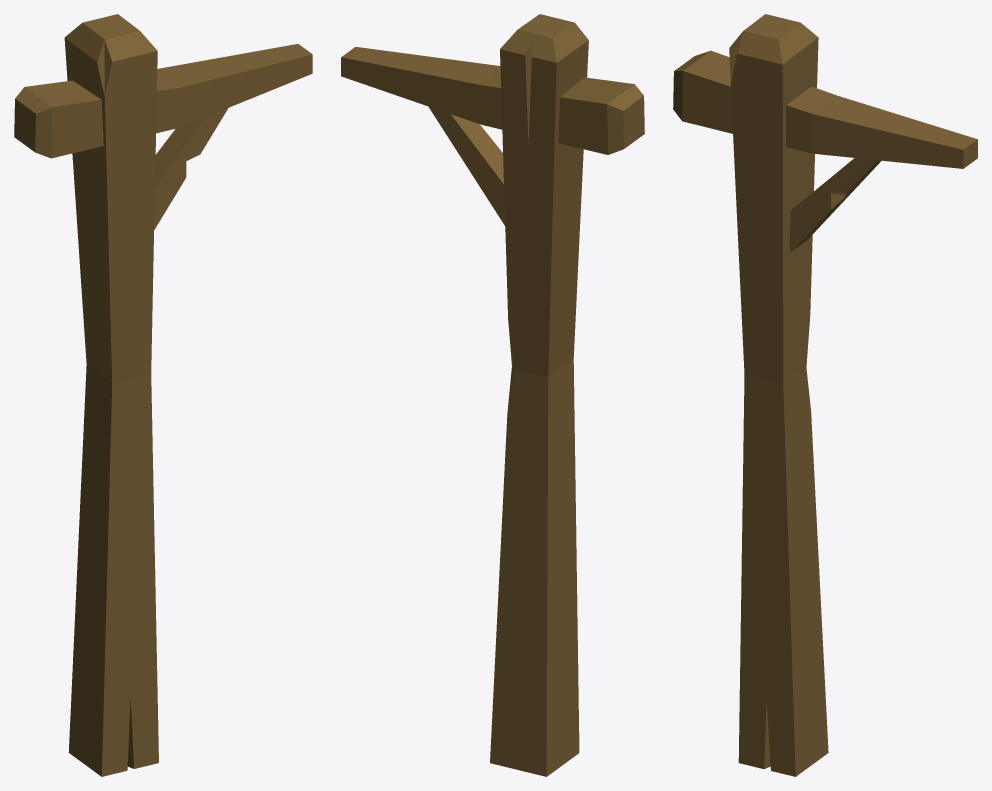
The model's file is lamp_post.glb.
3 renders of one model, left to right at view 1: azimuth 30°, elevation 25°; view 2: azimuth 150°, elevation 25°; view 3: azimuth 330°, elevation 25°, orthographic.
Visible parts, largest first — view 1: Cube, Cube.001, Cube.002; view 2: Cube, Cube.001, Cube.002; view 3: Cube, Cube.001, Cube.002.
Boxes of the visible parts, bbox=[...] form: Cube: bbox=[64, 14, 158, 776]; Cube.001: bbox=[14, 44, 312, 158]; Cube.002: bbox=[154, 108, 228, 230]; Cube: bbox=[490, 14, 588, 776]; Cube.001: bbox=[341, 46, 644, 154]; Cube.002: bbox=[429, 107, 505, 225]; Cube: bbox=[729, 14, 828, 776]; Cube.001: bbox=[673, 50, 977, 168]; Cube.002: bbox=[789, 158, 881, 251].
Bounding box in the file's own units: 1.65 × 4.07 × 0.39.
